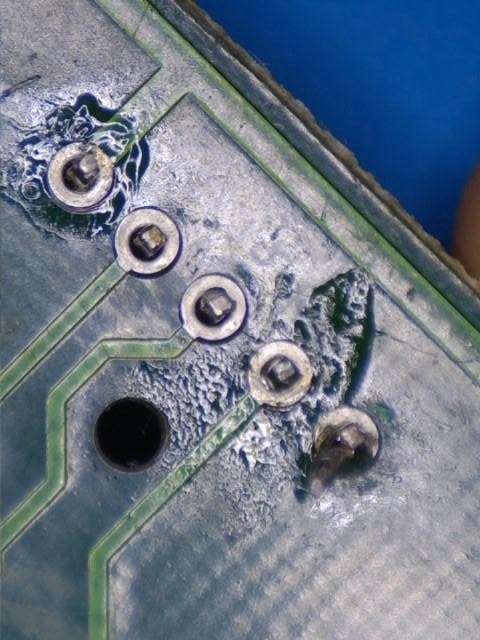pcb_defect: (314, 407, 379, 473), (249, 341, 311, 407)
